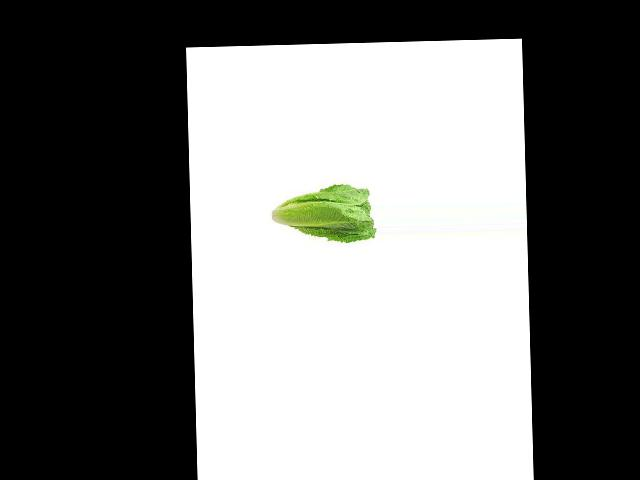lettuce: (293, 152, 371, 271)
